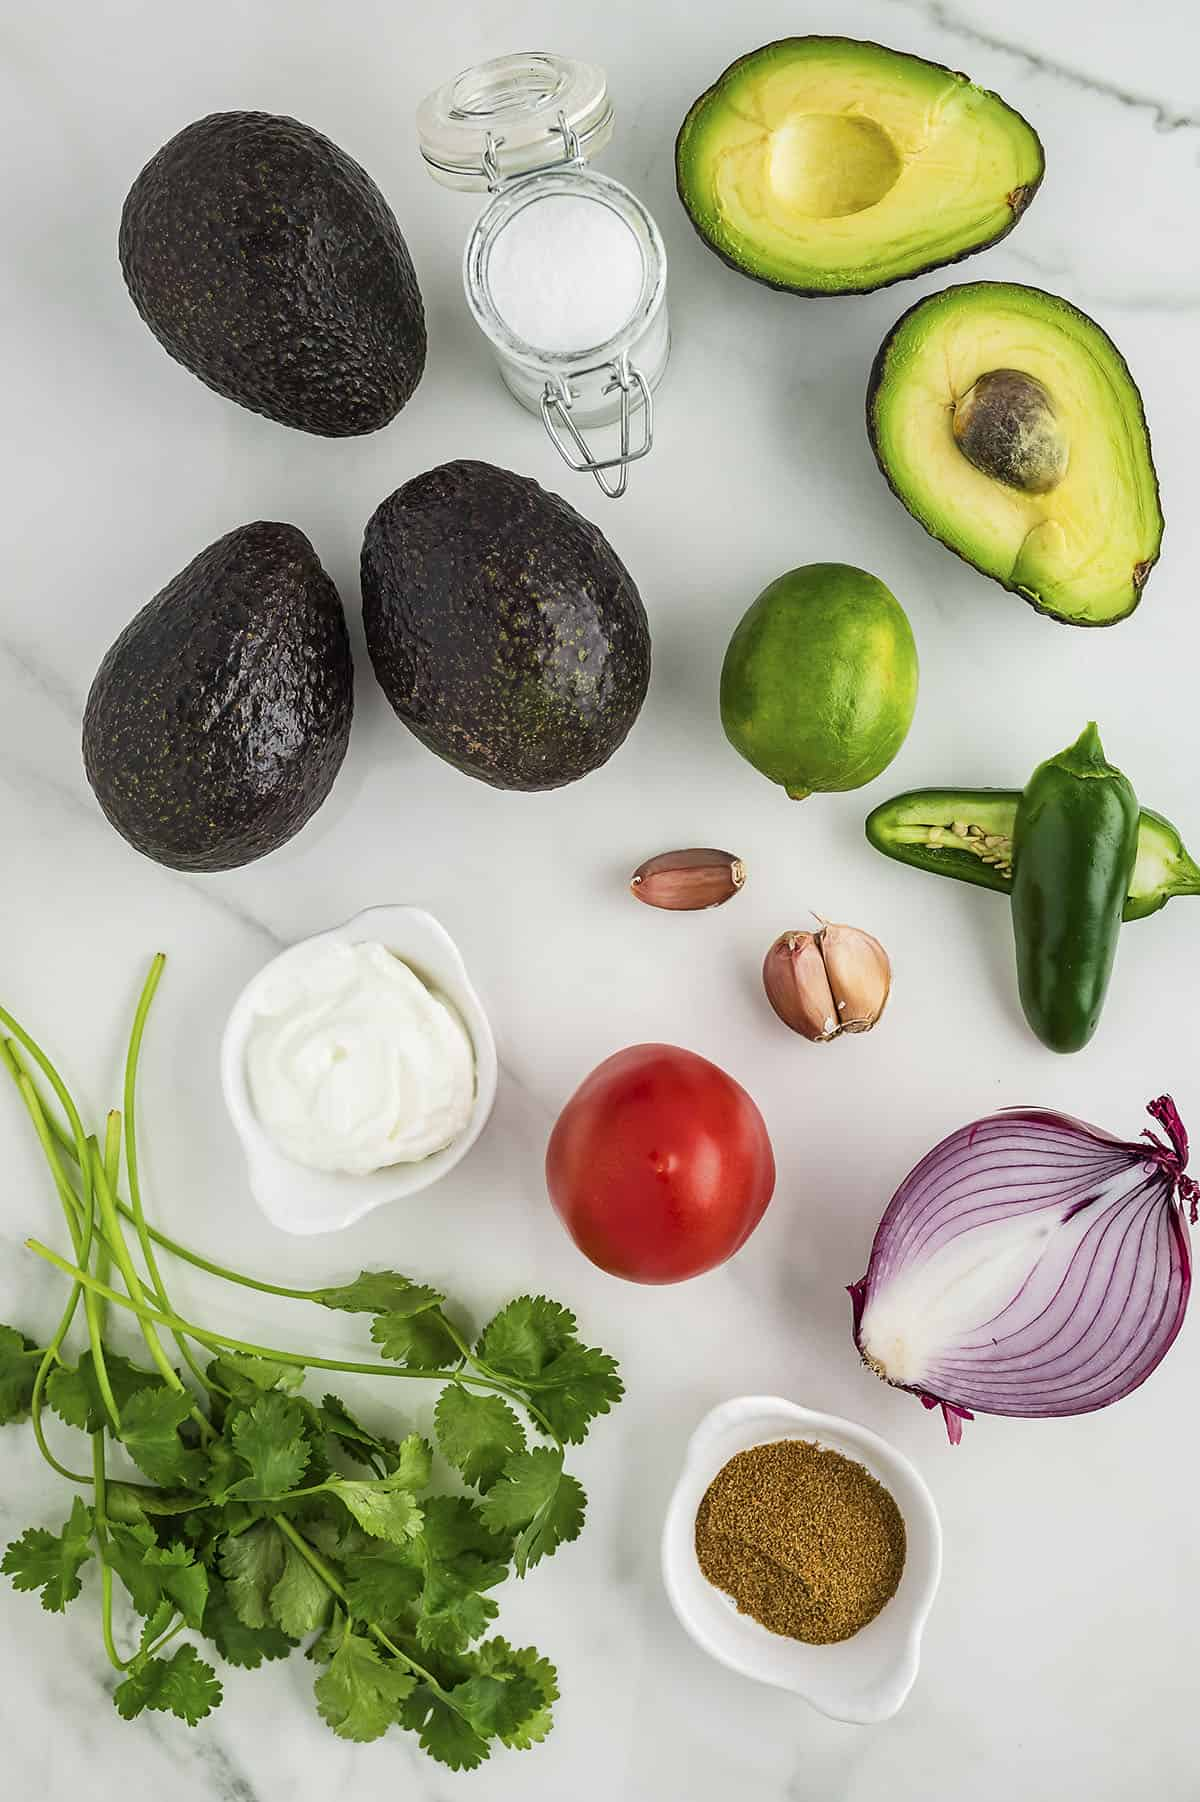Avacado: (844, 266, 1181, 643), (99, 92, 441, 438), (654, 17, 1058, 300), (346, 454, 666, 801), (78, 506, 362, 890)
Chili: (1019, 699, 1126, 1072)
Cilantro: (3, 1217, 585, 1799)
Tomato: (533, 1023, 797, 1300)
